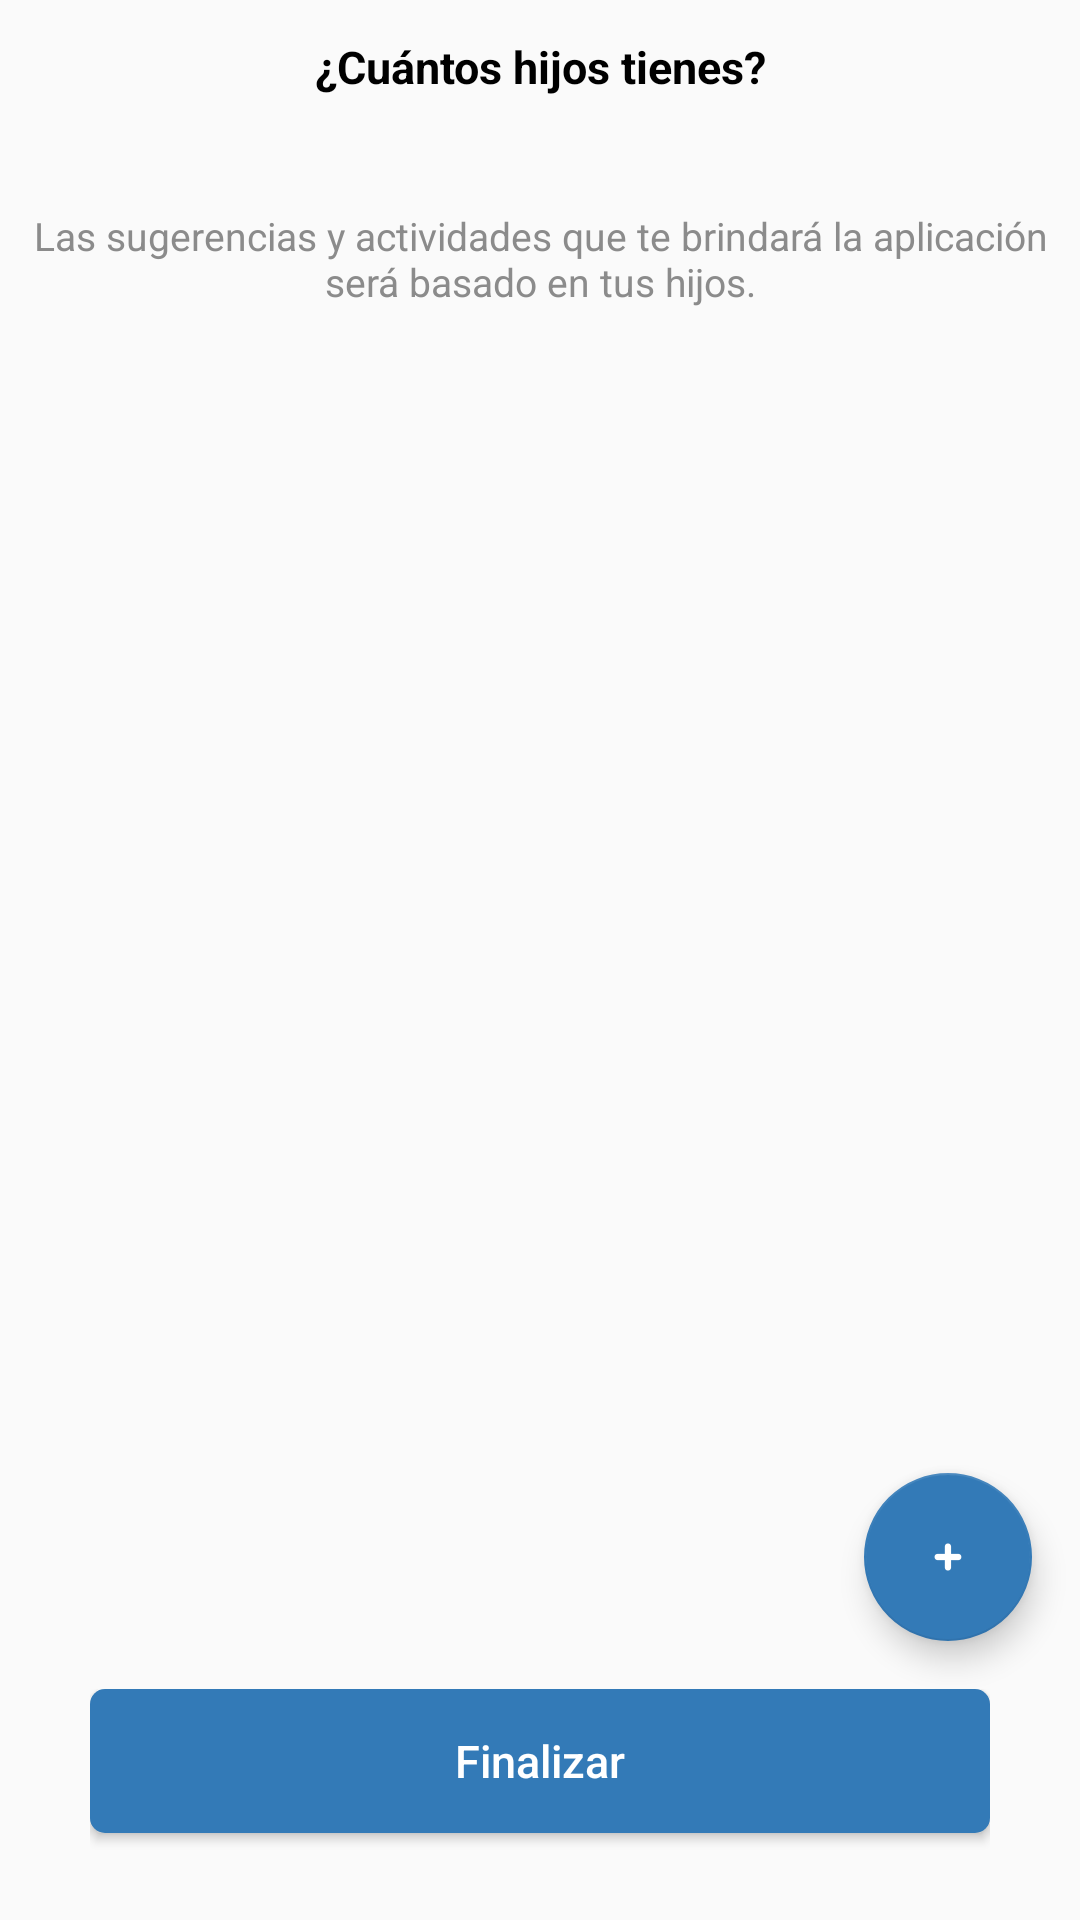

Icon click points for this 1080 x 1920 phone screenshot, format point (x, y):
add: point (948, 1557)
